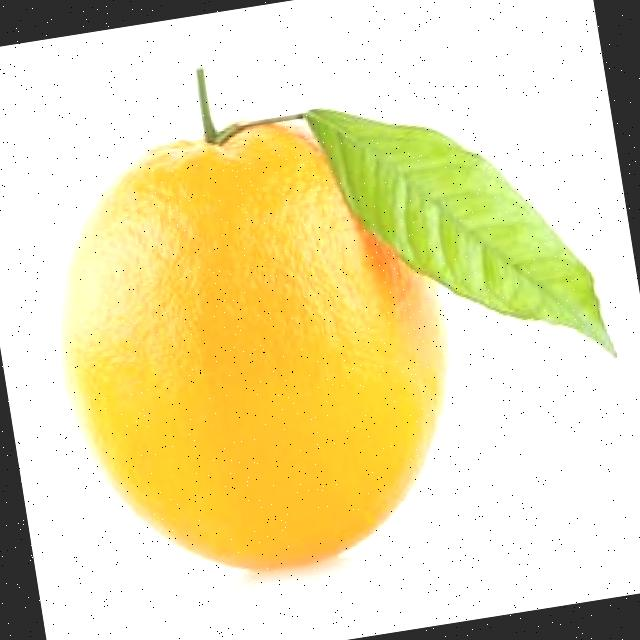orange: (25, 95, 484, 602)
